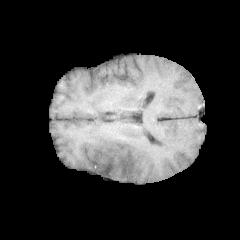glioma: (90, 137, 141, 179)
